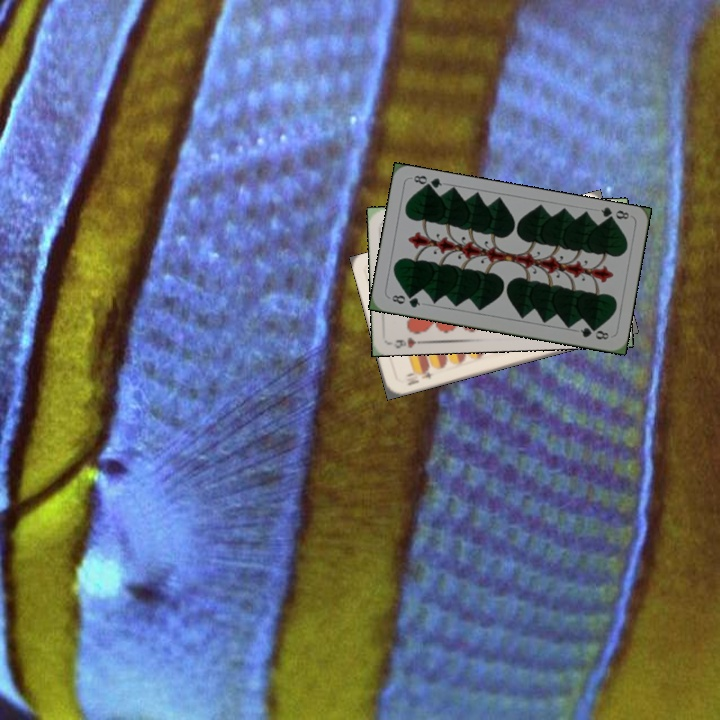E10: (403, 364, 438, 388)
G8: (597, 204, 631, 226), (388, 291, 423, 310)
H9: (390, 333, 427, 350)
